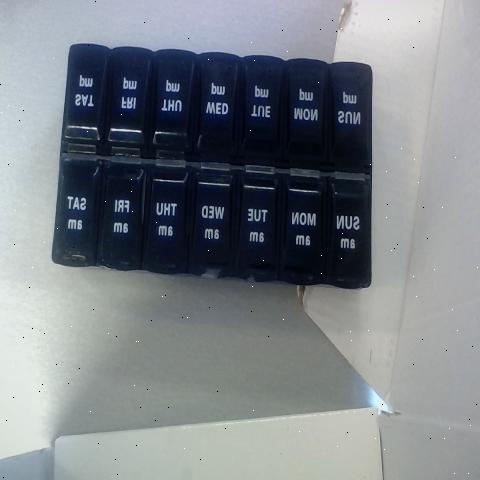FRI-am: (99, 167, 144, 264)
FRI-pm: (106, 50, 148, 142)
MON-am: (282, 177, 321, 278)
MON-pm: (282, 64, 324, 157)
SAT-am: (54, 158, 96, 258)
SAT-pm: (65, 45, 103, 147)
SUN-am: (325, 184, 368, 276)
SUN-pm: (324, 67, 371, 162)
THU-am: (142, 171, 186, 269)
THU-pm: (152, 53, 191, 155)
TUE-am: (239, 175, 276, 270)
TUE-pm: (238, 58, 282, 157)
WED-am: (190, 167, 230, 269)
WED-pm: (192, 56, 236, 155)
